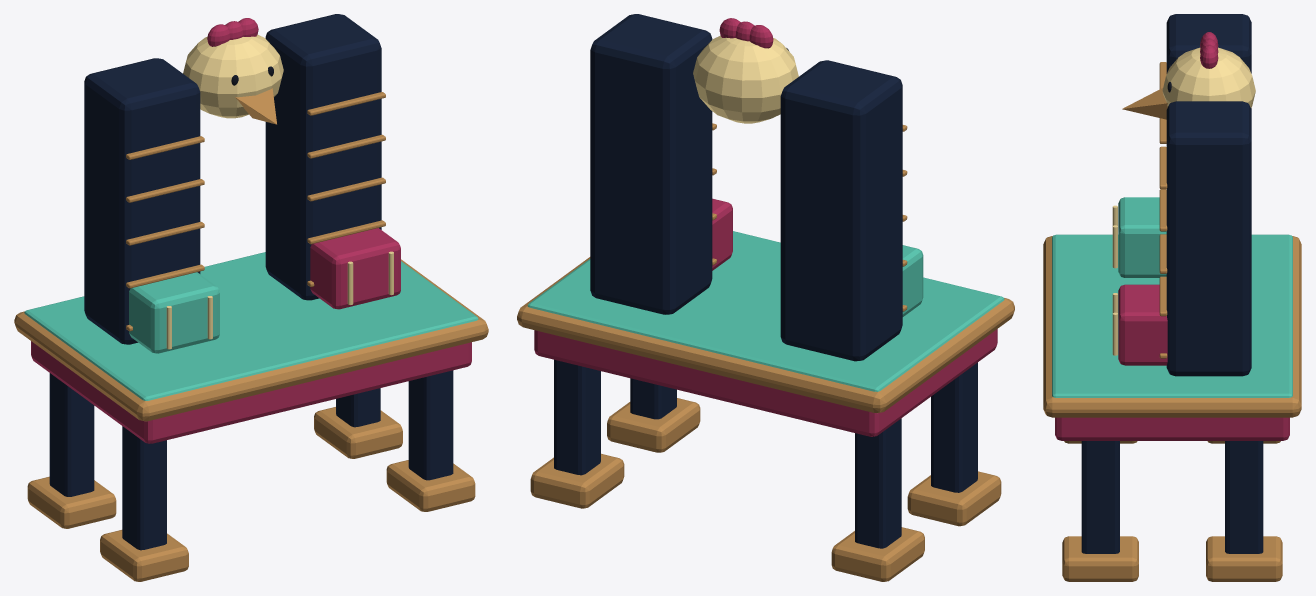
The model's file is ChickenElevator.fbx.
3 views of the same model, side by side, from view 1: azimuth 30°, elevation 25°; view 2: azimuth 150°, elevation 25°; view 3: azimuth 270°, elevation 25° (orthographic). The views are drawn at different scales.
Parts seen in each view (by area): view 1: ChickenElevator.Mesh, ChickenElevator.Elevator-0.62.Mesh, ChickenElevator.Elevator0.62.Mesh; view 2: ChickenElevator.Mesh, ChickenElevator.Elevator-0.62.Mesh, ChickenElevator.Elevator0.62.Mesh; view 3: ChickenElevator.Mesh, ChickenElevator.Elevator0.62.Mesh, ChickenElevator.Elevator-0.62.Mesh.
Part boxes in pixels (bbox=[...]): ChickenElevator.Mesh: bbox=[14, 14, 488, 581]; ChickenElevator.Elevator-0.62.Mesh: bbox=[129, 272, 219, 353]; ChickenElevator.Elevator0.62.Mesh: bbox=[310, 228, 400, 309]; ChickenElevator.Mesh: bbox=[517, 14, 1014, 581]; ChickenElevator.Elevator-0.62.Mesh: bbox=[902, 245, 923, 316]; ChickenElevator.Elevator0.62.Mesh: bbox=[712, 198, 732, 270]; ChickenElevator.Mesh: bbox=[1043, 14, 1301, 581]; ChickenElevator.Elevator0.62.Mesh: bbox=[1112, 284, 1167, 365]; ChickenElevator.Elevator-0.62.Mesh: bbox=[1112, 197, 1166, 277].
Bounding box in the file's own units: 240 × 306 × 155.
